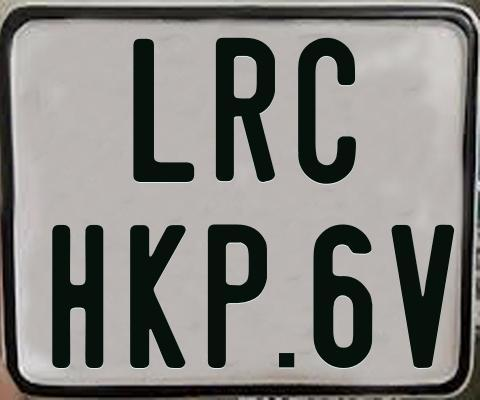6: (310, 223, 373, 367)
C: (297, 37, 358, 187)
H: (51, 223, 103, 369)
K: (128, 224, 186, 371)
L: (131, 39, 195, 182)
P: (206, 222, 268, 367)
R: (214, 36, 279, 185)
V: (389, 224, 458, 371)
